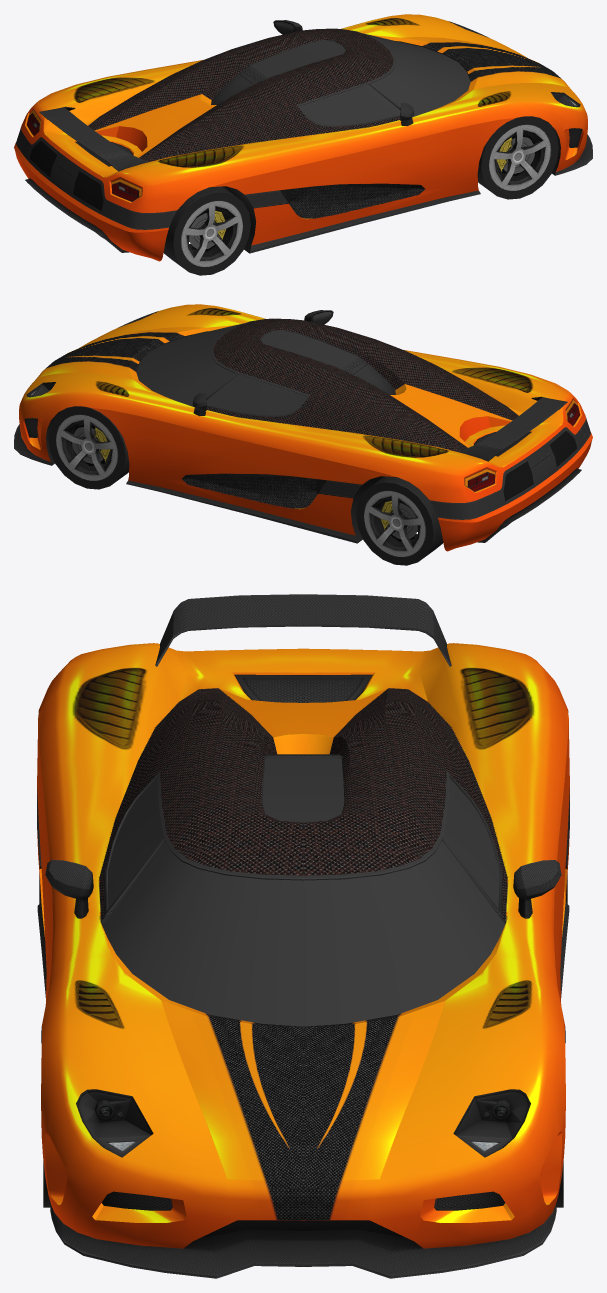
File: car_9.FBX
The picture shows the model from 3 angles, top to bottom: view 1: azimuth 30°, elevation 25°; view 2: azimuth 150°, elevation 25°; view 3: azimuth 270°, elevation 25°; orthographic projection. The views are drawn at different scales.
Visible parts, largest first — view 1: car_9; view 2: car_9; view 3: car_9.
Boxes of the visible parts, x1,y1,x2,y2 form: car_9: [14, 14, 592, 275]; car_9: [14, 304, 592, 565]; car_9: [37, 594, 569, 1278].
Size of the model in its own units: 64.37 by 16.44 by 29.38.
